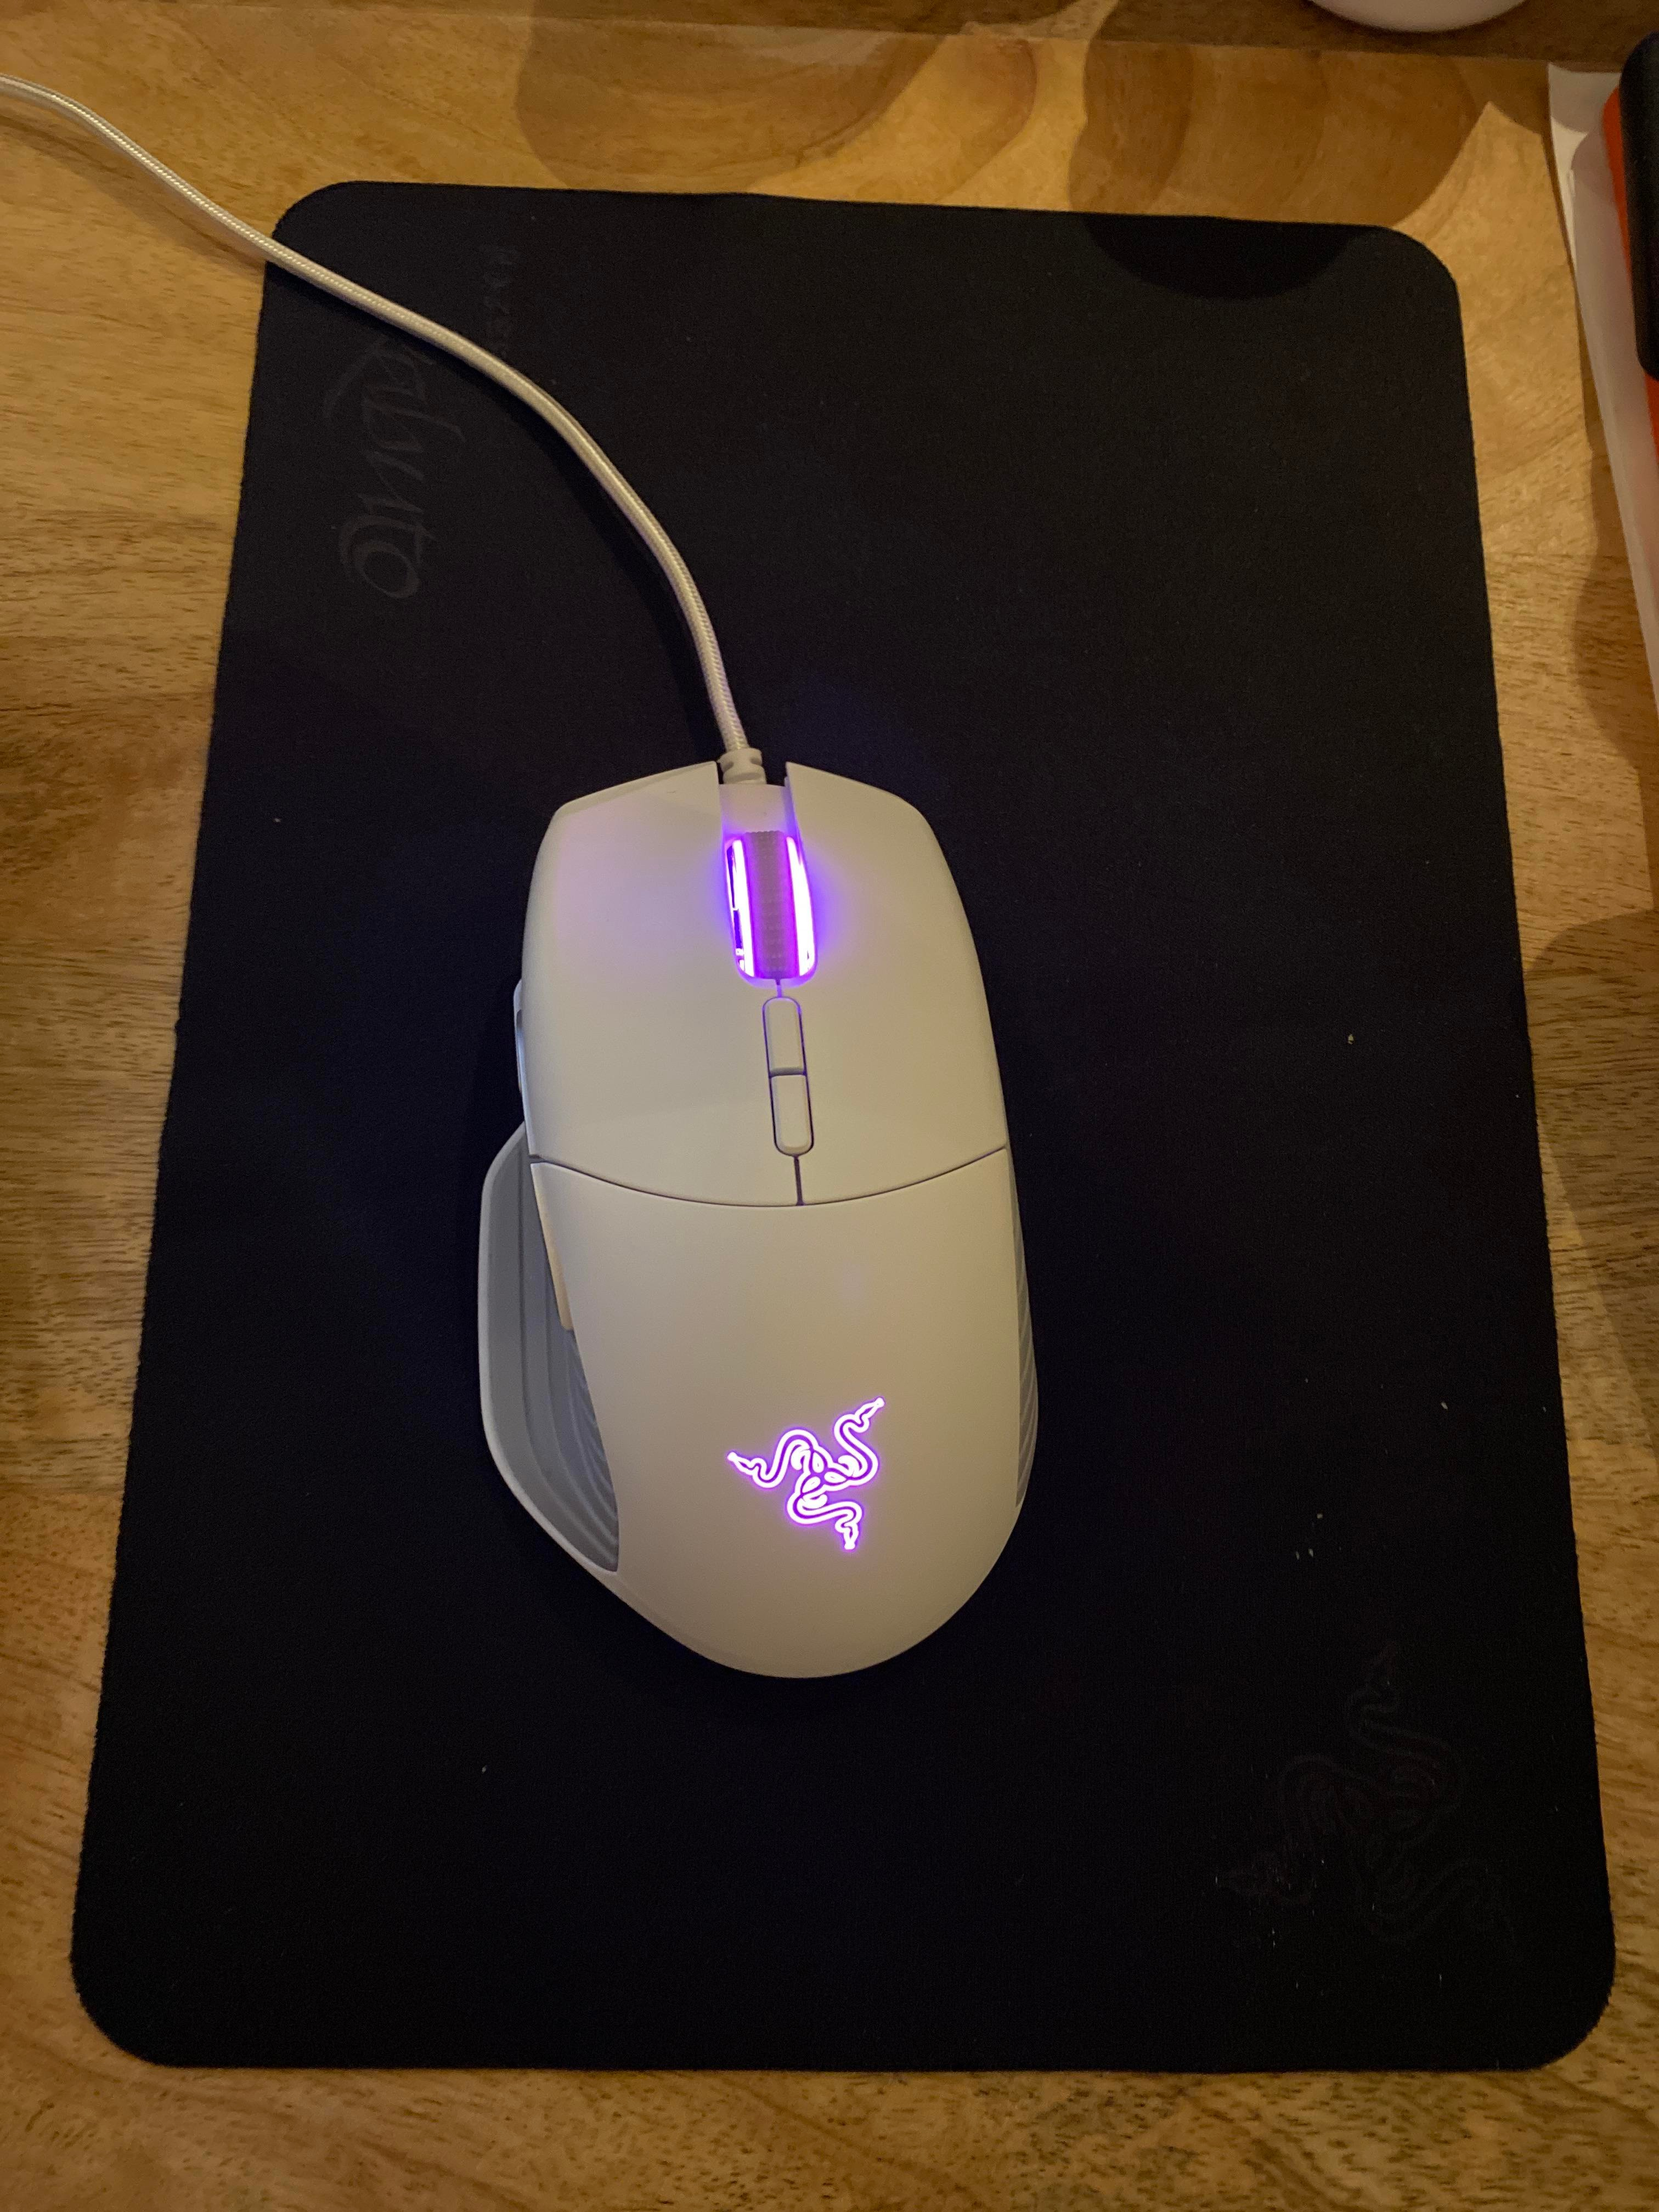mouse: (422, 723, 1051, 1716)
